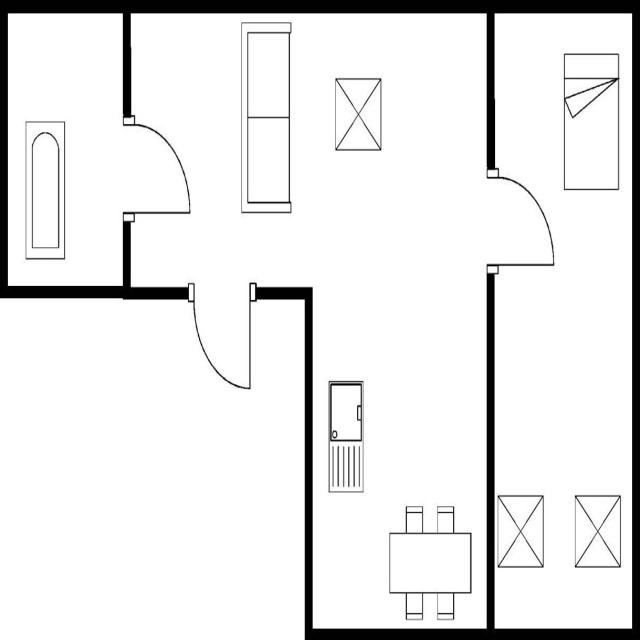bed: (560, 48, 622, 196)
coffee_table: (572, 488, 624, 574), (332, 73, 386, 155), (495, 490, 547, 572)
dining_table: (386, 499, 476, 625)
large_sofa: (238, 18, 294, 217)
sink: (324, 375, 366, 499)
tub: (20, 114, 70, 268)
